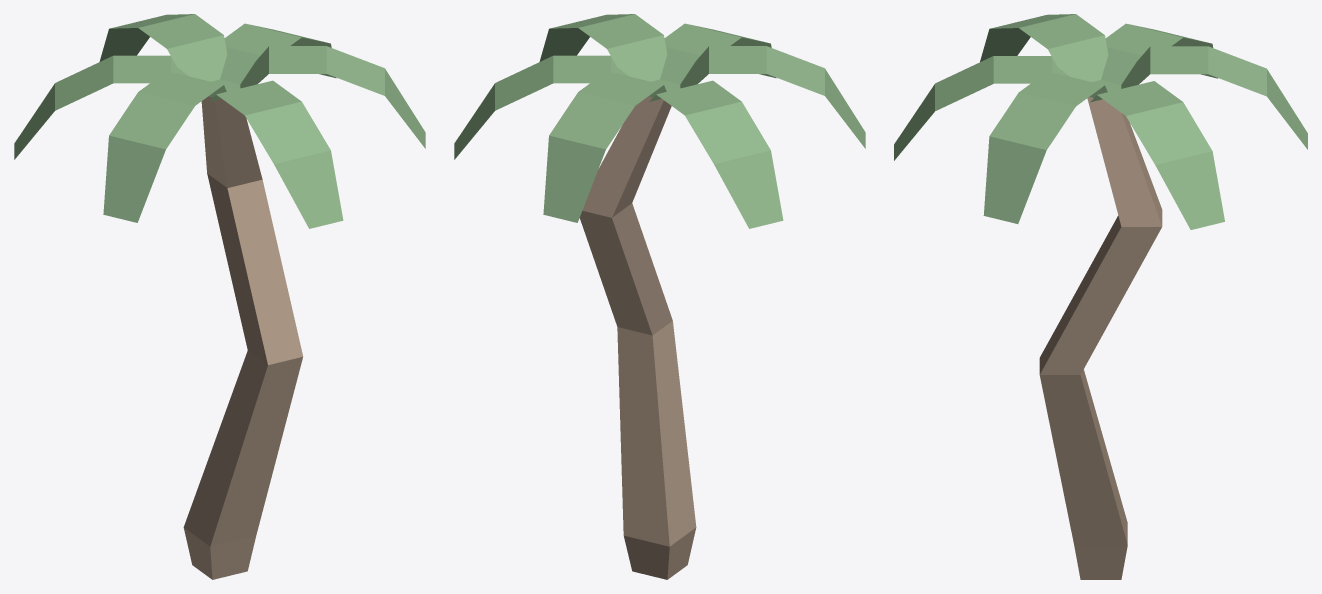
File: palm_b.glb
3 views of the same model, side by side, from view 1: azimuth 30°, elevation 25°; view 2: azimuth 150°, elevation 25°; view 3: azimuth 270°, elevation 25° (orthographic).
Visible parts, largest first — view 1: palm_b; view 2: palm_b; view 3: palm_b.
Part boxes in pixels (x1=…): palm_b: x1=14, y1=14, x2=425, y2=579; palm_b: x1=454, y1=14, x2=865, y2=579; palm_b: x1=894, y1=14, x2=1307, y2=579.
Bounding box in the file's own units: 43.39 × 64 × 46.97.
